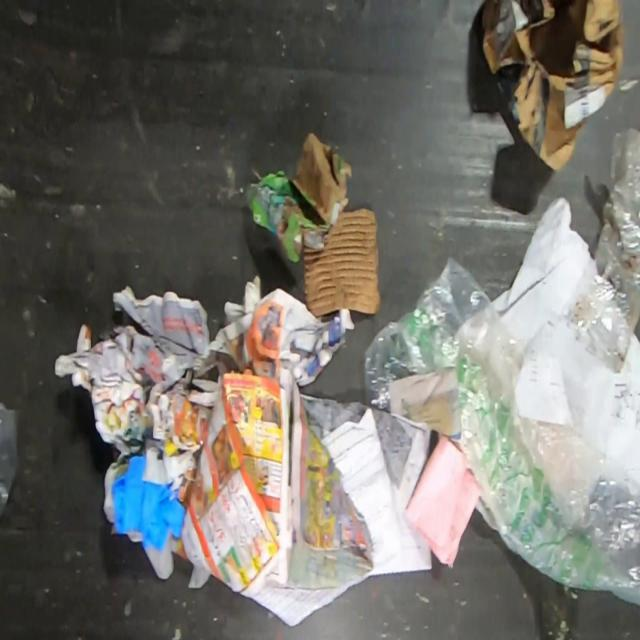cardboard: (479, 0, 627, 174), (245, 132, 353, 264), (302, 207, 383, 318)
soft_plastic: (362, 254, 640, 608), (560, 125, 640, 378), (0, 399, 20, 523)
